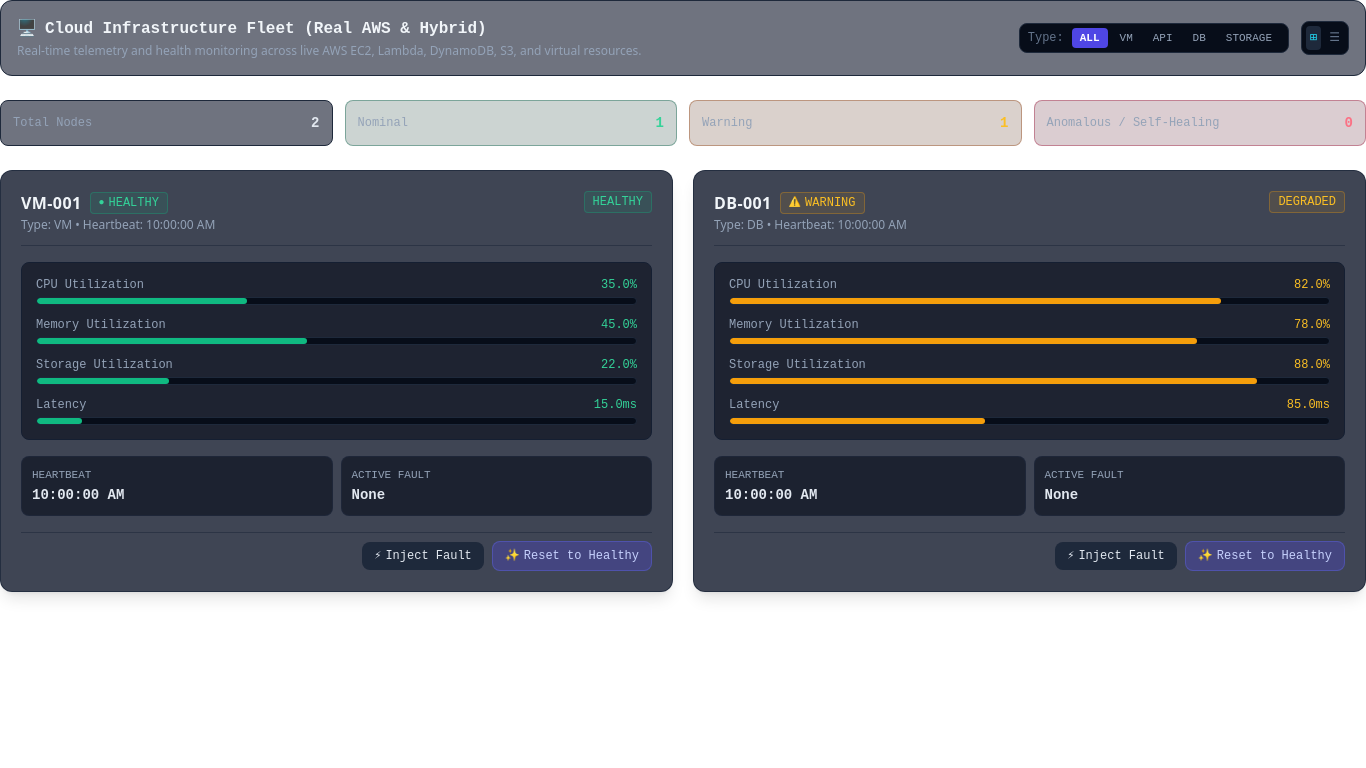
Test: ResourceHealthSection › switches to table view and filters by type
Switch to table view
Click the button titled "Table View".
click(1335, 38)  # box [1325,26,1344,50]
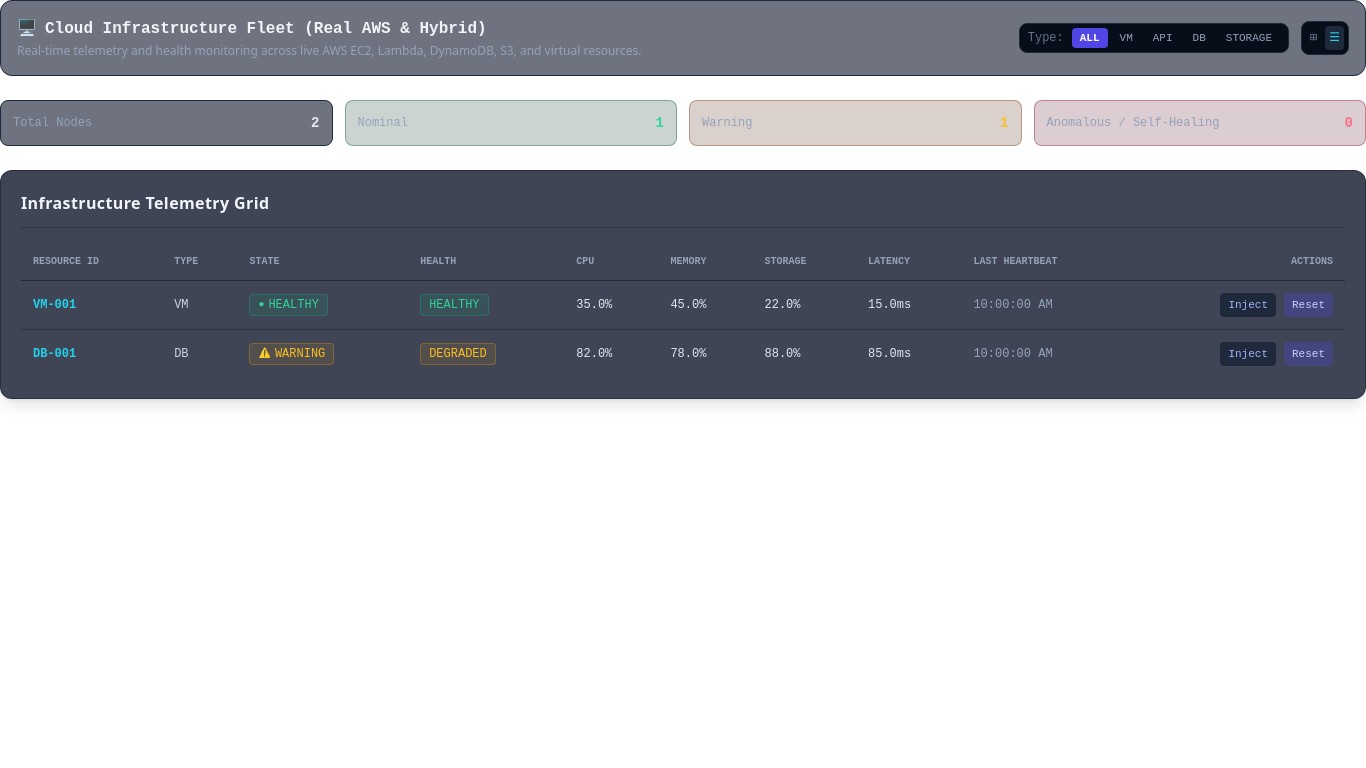
Expected: the heading "Infrastructure Telemetry Grid" is shown, [21,191,270,215]
Filter by DB
Click the button "DB".
click(1199, 38)  # box [1185,28,1214,48]
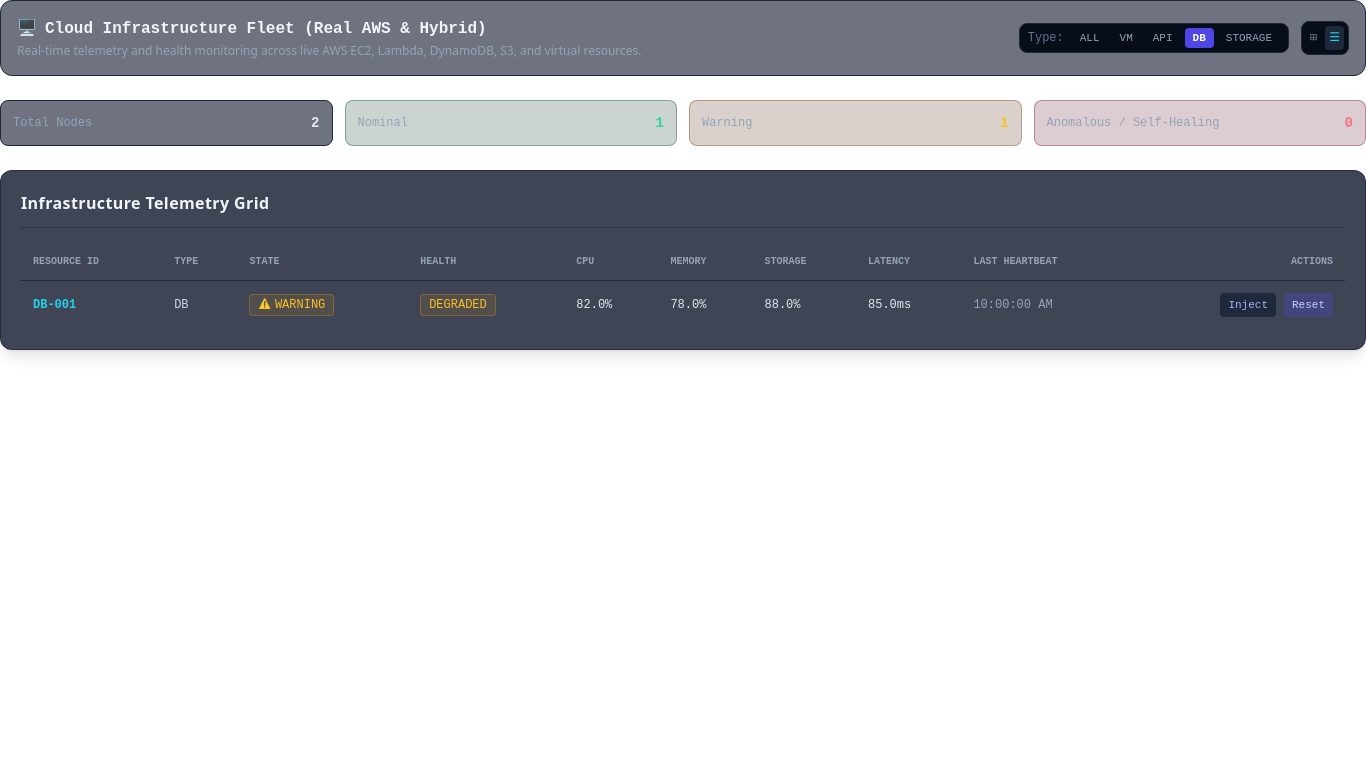
Expected: the text "DB-001" is shown, [21,280,162,329]
Expected: the text "VM-001" is gone
